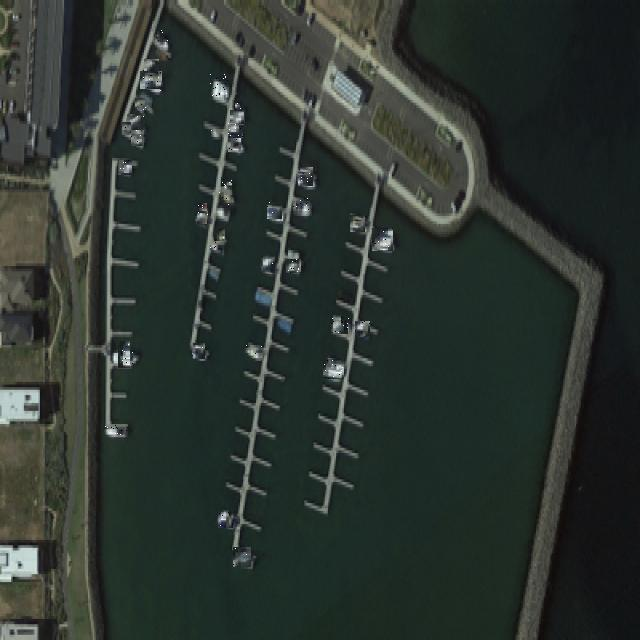boat: (372, 228, 394, 251), (323, 358, 344, 379), (141, 70, 161, 91), (210, 74, 228, 97), (114, 344, 134, 364), (233, 547, 252, 567), (331, 315, 349, 333), (217, 510, 234, 528), (127, 114, 145, 131), (266, 202, 283, 219), (297, 168, 314, 185), (292, 198, 310, 214), (244, 342, 262, 358), (349, 216, 366, 232), (104, 424, 128, 435), (227, 124, 243, 140), (143, 58, 159, 74), (355, 321, 370, 337), (261, 257, 277, 272), (227, 136, 243, 151), (191, 344, 206, 359), (286, 258, 300, 274), (154, 29, 168, 45), (154, 42, 168, 58), (218, 187, 235, 200), (230, 110, 245, 124), (118, 160, 132, 174), (214, 203, 229, 216), (286, 245, 300, 258), (210, 240, 224, 253), (195, 212, 208, 225), (214, 228, 226, 241), (134, 98, 146, 110), (132, 134, 144, 145), (121, 123, 132, 135), (197, 203, 208, 213), (222, 176, 232, 187), (234, 102, 243, 111), (210, 126, 219, 134)
